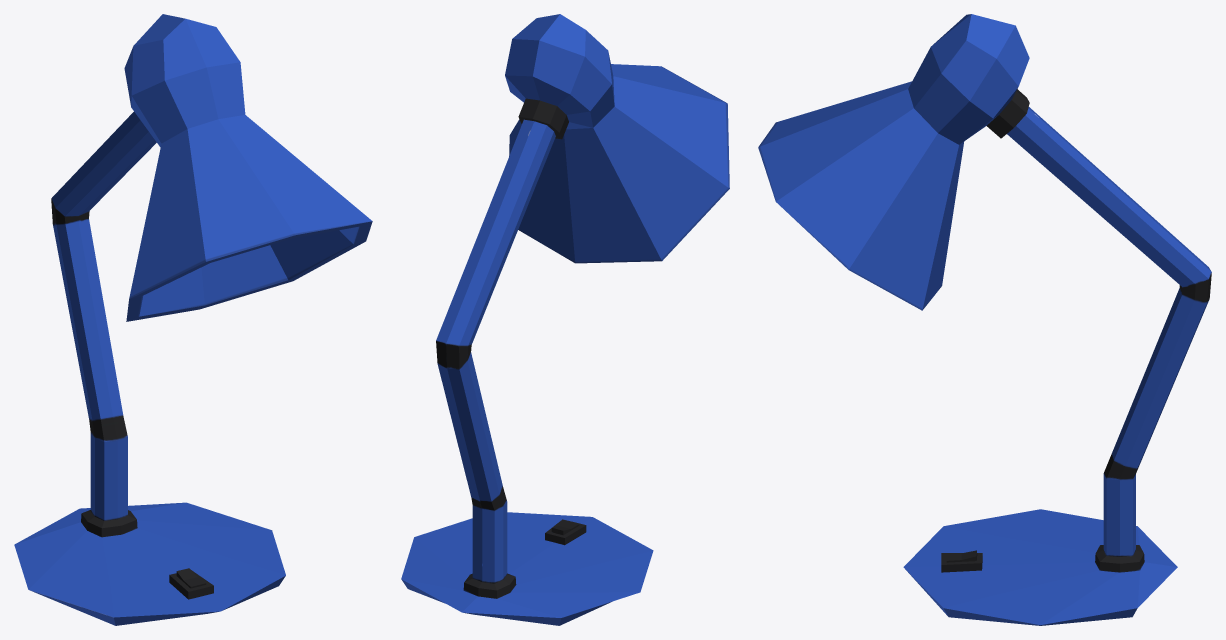
The model's file is ABAJU AZUL.FBX.
3 views of the same model, side by side, from view 1: azimuth 30°, elevation 25°; view 2: azimuth 150°, elevation 25°; view 3: azimuth 270°, elevation 25° (orthographic). The views are drawn at different scales.
Visible parts, largest first — view 1: Cube; view 2: Cube; view 3: Cube.
Part boxes in pixels (<box>): Cube: <box>14,14,372,625</box>; Cube: <box>401,14,729,625</box>; Cube: <box>758,14,1211,625</box>.
Bounding box in the file's own units: 3464 × 7858 × 5726.
Materials: 1 (1 with a texture image).
